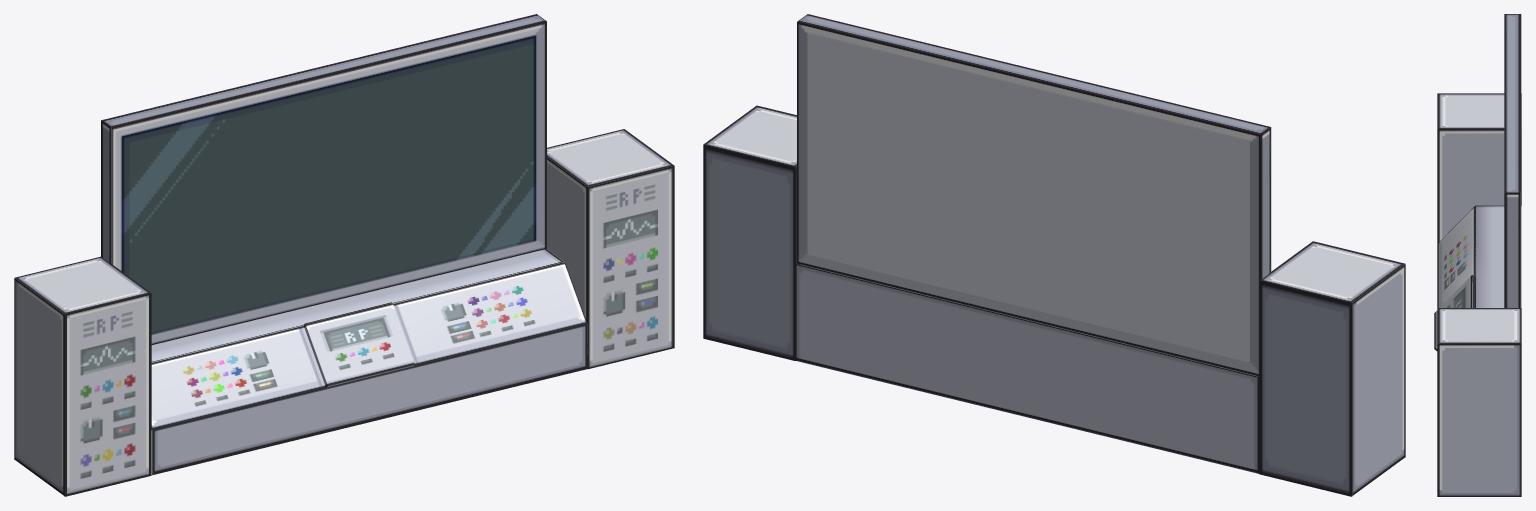
File: controlpanel.fbx
3 views of the same model, side by side, from view 1: azimuth 30°, elevation 25°; view 2: azimuth 150°, elevation 25°; view 3: azimuth 270°, elevation 25° (orthographic). The views are drawn at different scales.
Visible parts, largest first — view 1: pCube12, pCube10, pCube13, pCube14; view 2: pCube12, pCube10, pCube13, pCube14; view 3: pCube14, pCube13, pCube10, pCube12.
Boxes of the visible parts, box(x1,y1,x2,y2) form: pCube12: box(101, 14, 546, 344); pCube10: box(151, 249, 587, 475); pCube13: box(14, 256, 151, 496); pCube14: box(537, 129, 674, 369); pCube12: box(797, 14, 1271, 376); pCube10: box(796, 264, 1259, 473); pCube13: box(1259, 241, 1405, 496); pCube14: box(703, 105, 796, 360); pCube14: box(1437, 308, 1521, 496); pCube13: box(1437, 93, 1521, 276); pCube10: box(1434, 205, 1521, 350); pCube12: box(1504, 14, 1521, 307).
Size of the model in its own units: 7 by 3.5 by 1.04.
Materials: 1 (1 with a texture image).
